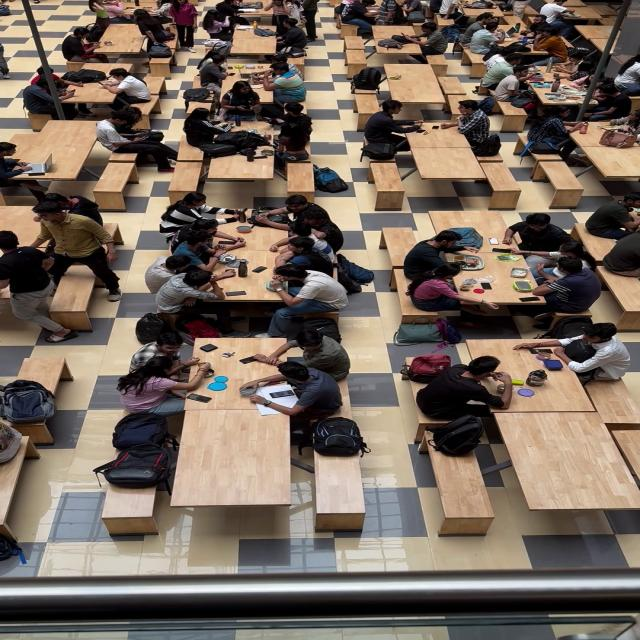Occupied: (143, 187, 362, 333), (125, 333, 371, 422), (415, 207, 601, 322), (396, 326, 632, 412), (0, 187, 130, 338), (433, 0, 599, 59), (364, 95, 510, 156), (54, 0, 201, 59), (194, 48, 307, 113), (206, 0, 324, 61), (524, 96, 640, 154), (20, 59, 149, 110), (97, 100, 176, 172), (355, 0, 444, 63), (107, 416, 177, 485), (0, 376, 60, 454), (593, 190, 640, 274), (310, 414, 382, 459), (0, 129, 57, 182), (425, 414, 492, 456), (350, 61, 395, 92), (612, 49, 640, 92)
Unoccupied: (504, 412, 640, 516), (182, 412, 297, 506), (427, 452, 496, 518), (314, 460, 367, 517), (10, 342, 84, 380), (409, 144, 482, 182), (101, 486, 162, 524), (401, 59, 460, 96), (0, 462, 35, 519), (538, 157, 588, 196), (372, 154, 414, 200), (484, 160, 531, 198), (212, 154, 272, 182), (281, 157, 319, 190), (46, 115, 92, 142), (593, 154, 640, 180), (64, 144, 96, 182), (164, 156, 200, 189), (608, 275, 640, 311), (336, 30, 368, 62), (93, 175, 127, 194), (352, 92, 376, 111)
